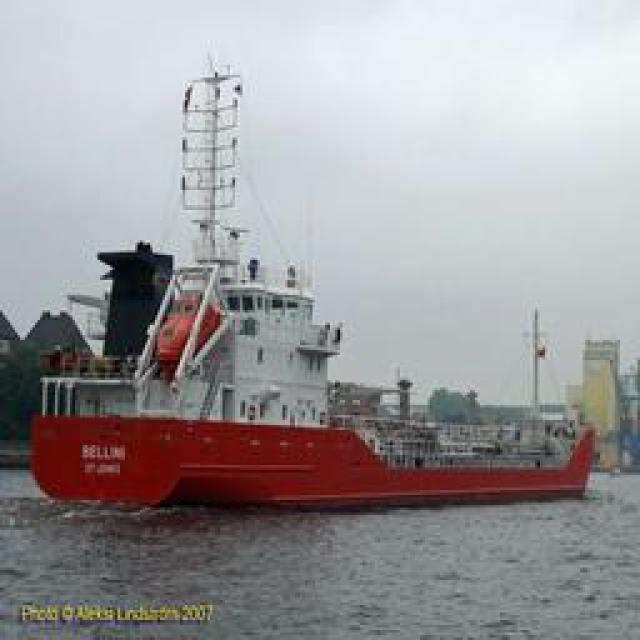Ship: (31, 82, 606, 510)
